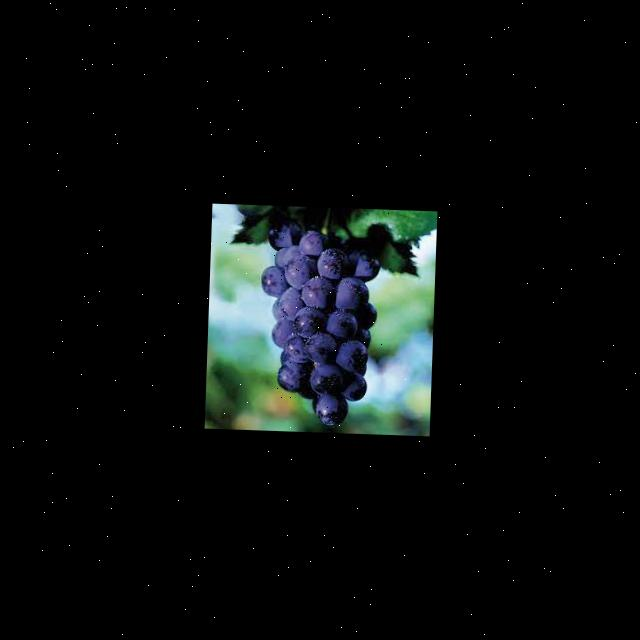grape: (255, 220, 382, 428)
